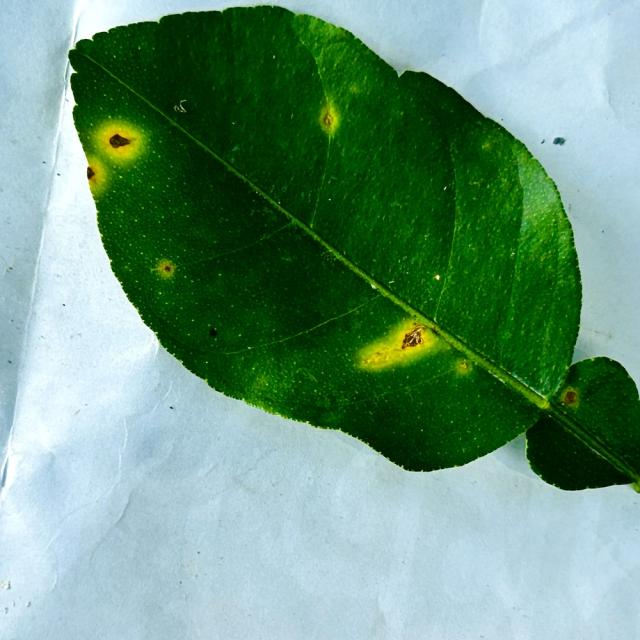Anthracnose: (140, 243, 192, 300), (374, 322, 439, 365), (101, 122, 145, 166), (313, 100, 352, 142), (81, 154, 105, 192)
Lemon: (67, 5, 639, 495)
